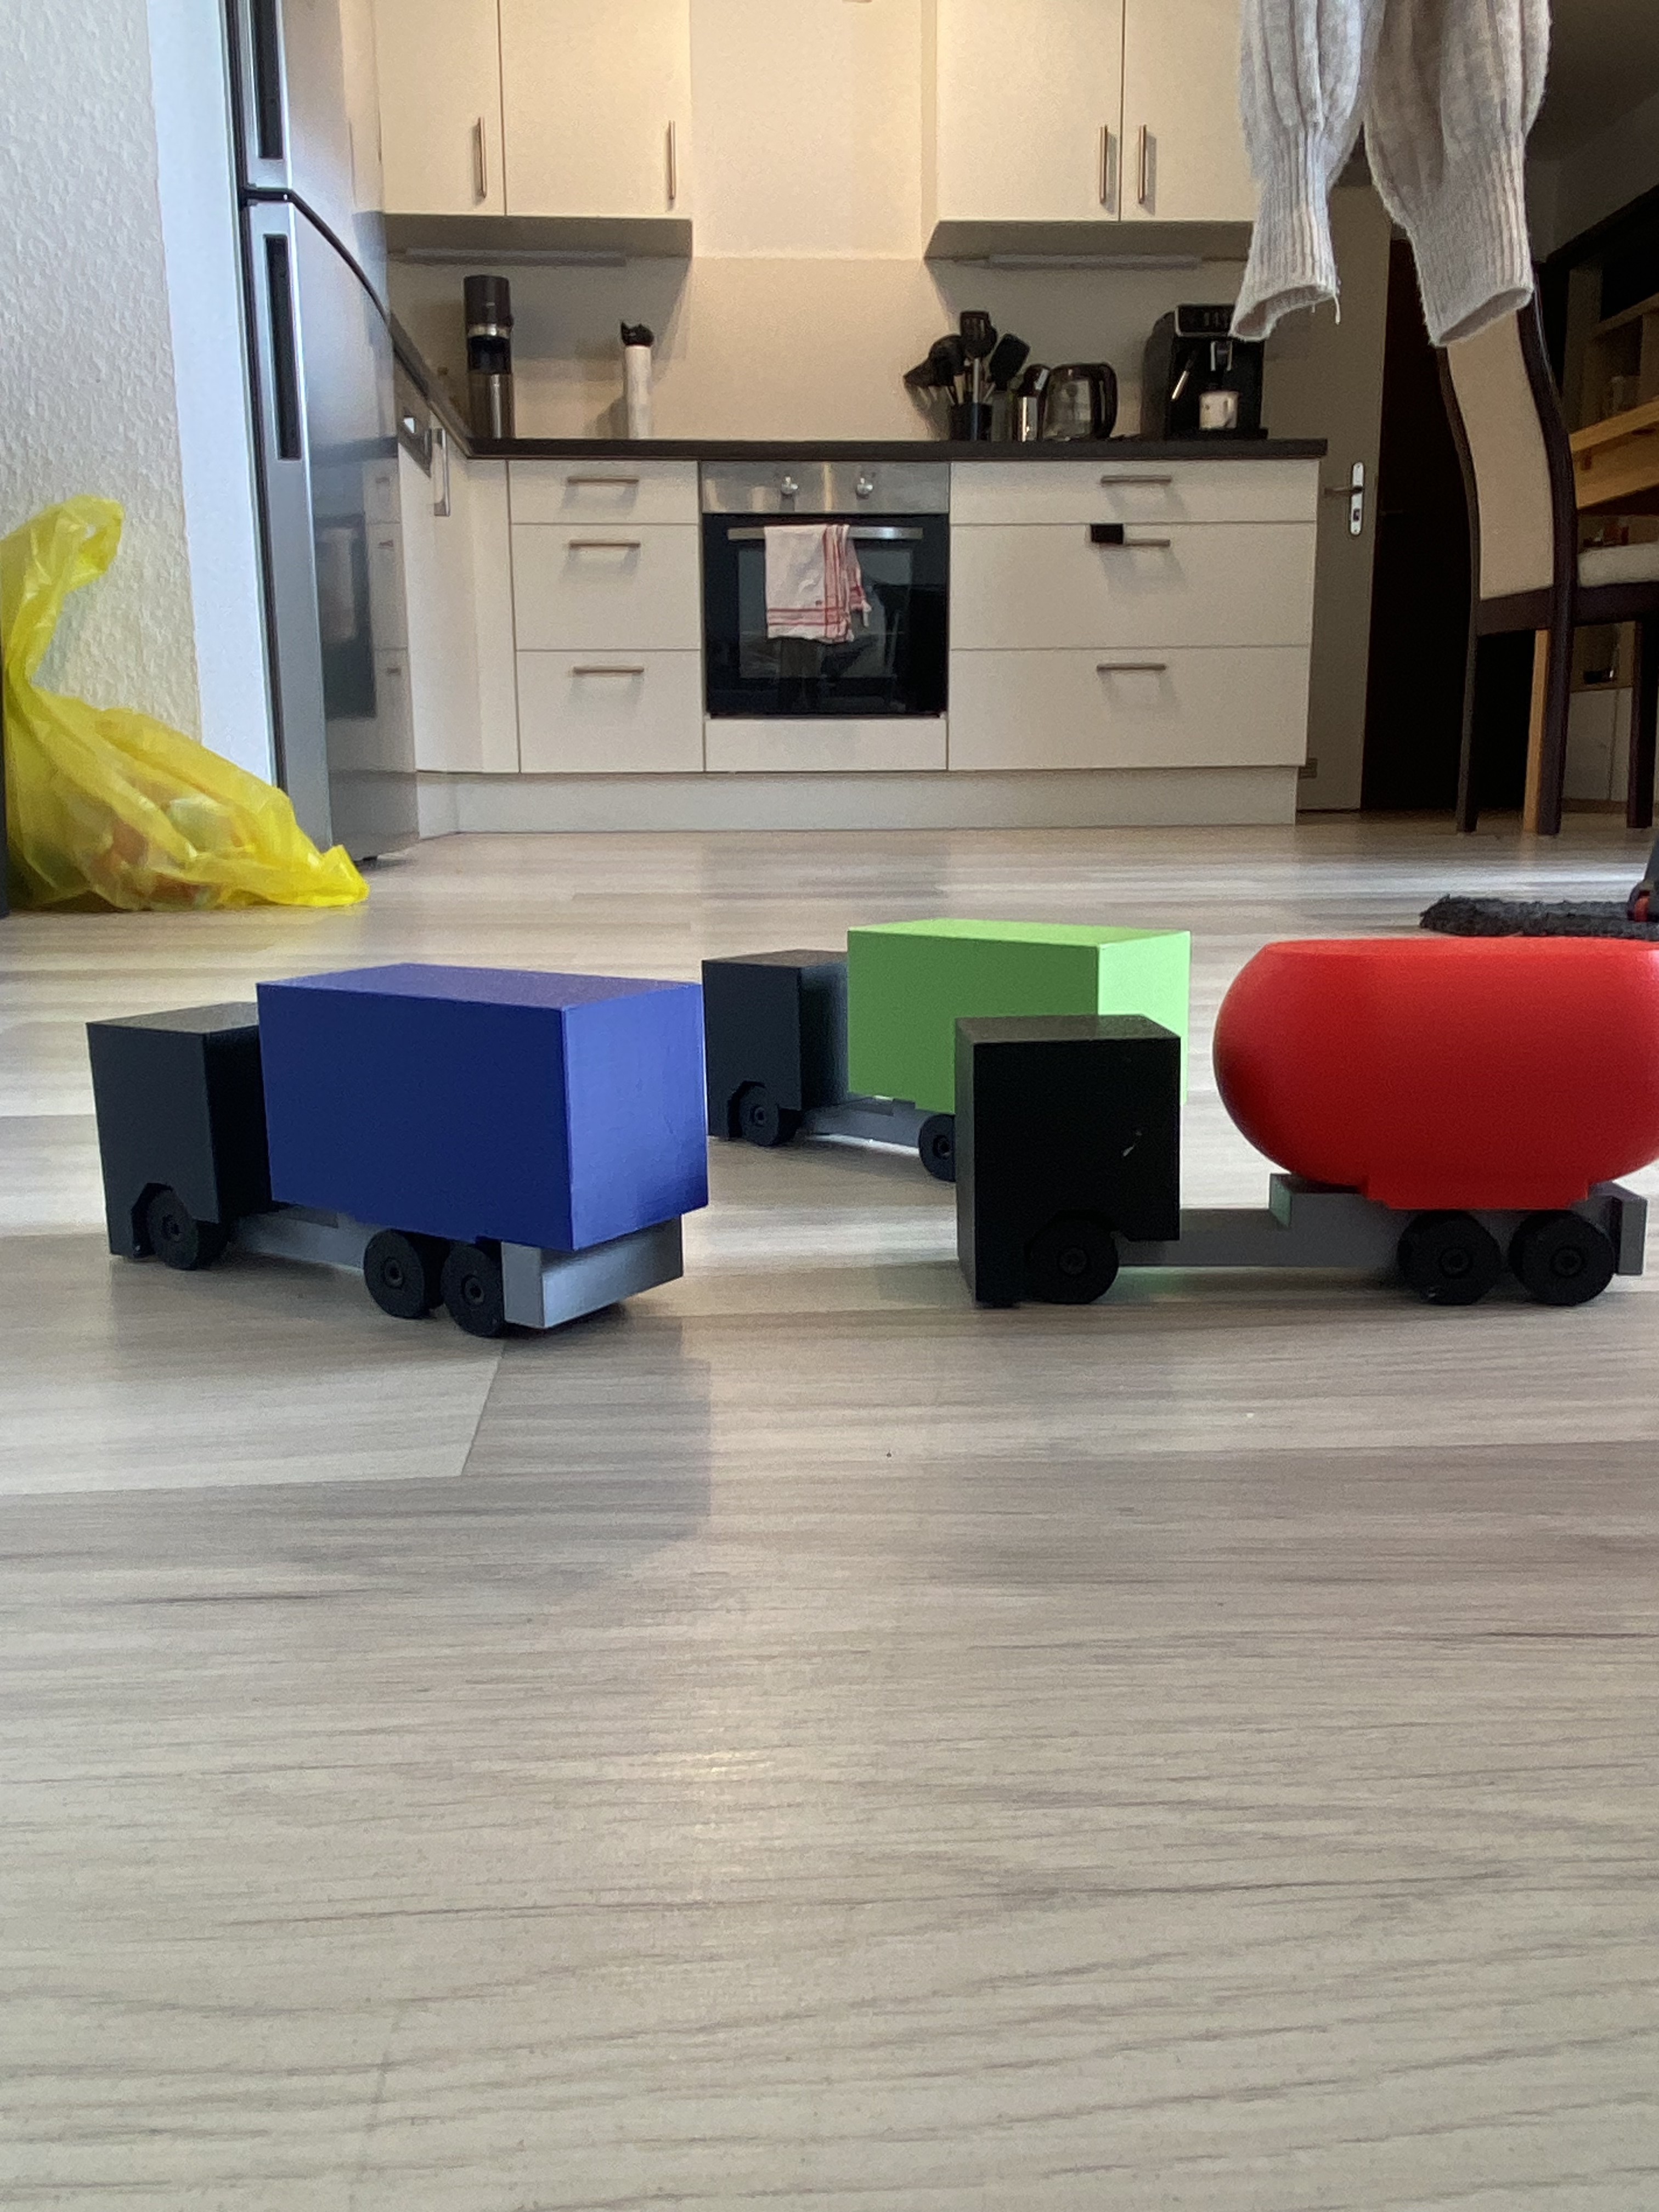blue_truck: (190, 846, 587, 1463)
green_truck: (828, 792, 1060, 1264)
red_truck: (1136, 761, 1480, 1491)
